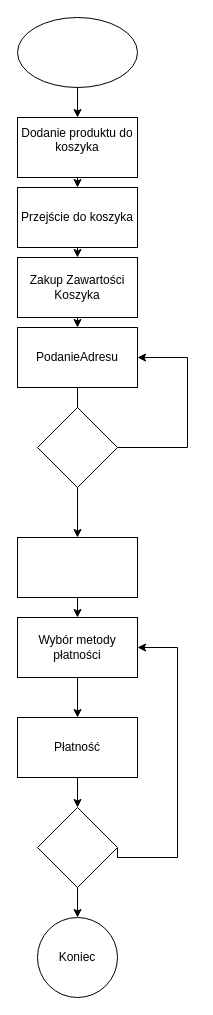
Some shapes in this 213 by 1015 pixel diagram are drawn without their labels. The shapes that lost their labels are listed below. From the top down, each one's box as (x1, y1, x2, y2) in pixels, then its label:
(16, 16, 138, 88): Start
(36, 406, 118, 488): Poprawność adressu
(16, 536, 138, 598): Wybór metody wysyłki
(36, 806, 118, 888): Skukces
